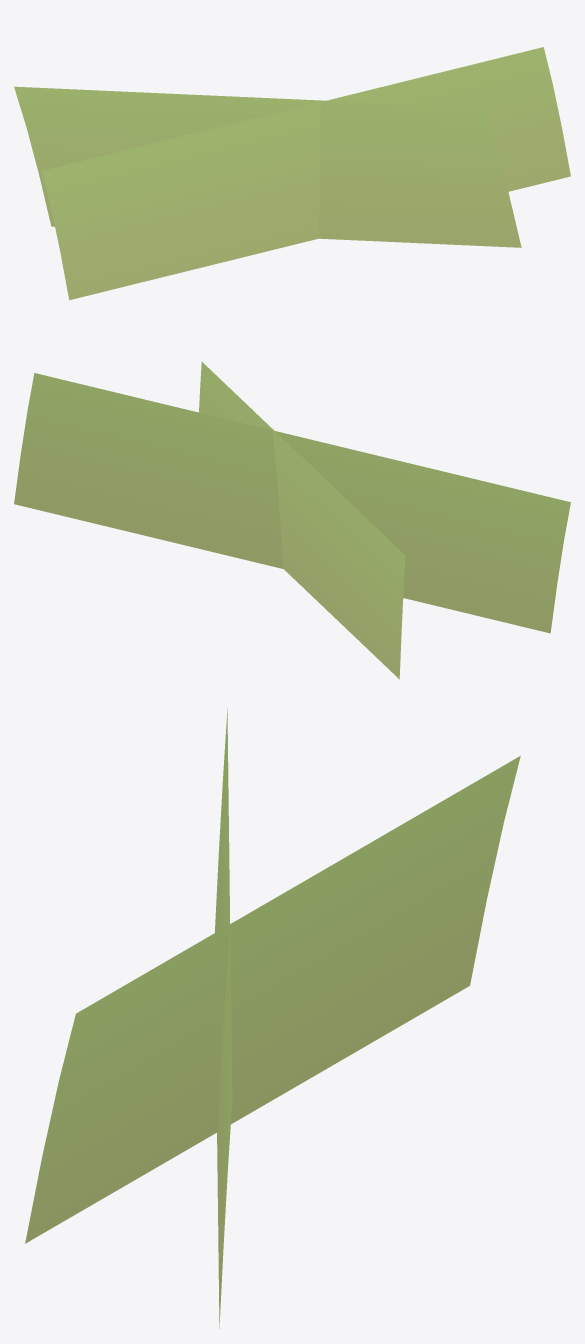
The model's file is grass_b.glb.
3 views of the same model, one above another, from view 1: azimuth 30°, elevation 25°; view 2: azimuth 150°, elevation 25°; view 3: azimuth 270°, elevation 25° (orthographic). The views are drawn at different scales.
Visible parts, largest first — view 1: LOD0; view 2: LOD0; view 3: LOD0.
Part boxes in pixels (x1,y1,x2,y2): LOD0: (14,47,570,300); LOD0: (14,361,570,679); LOD0: (25,708,520,1328).
Bounding box in the file's own units: 1.25 × 0.3047 × 0.7196.
